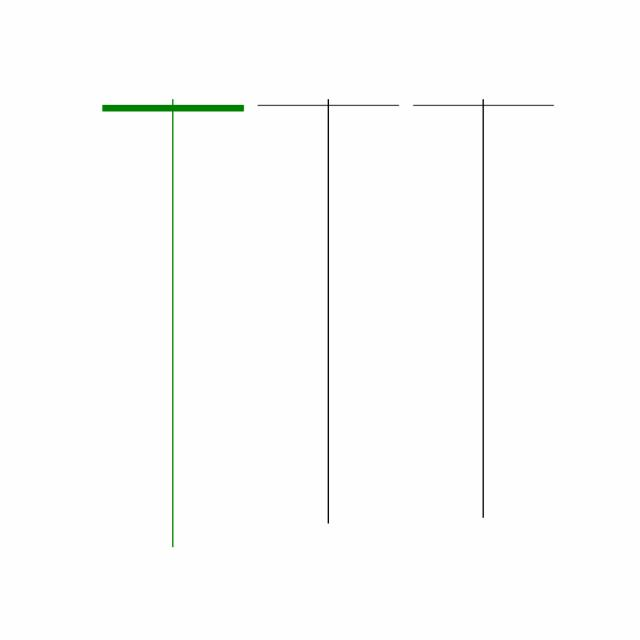Dragonfly Doji: (249, 93, 406, 528)
